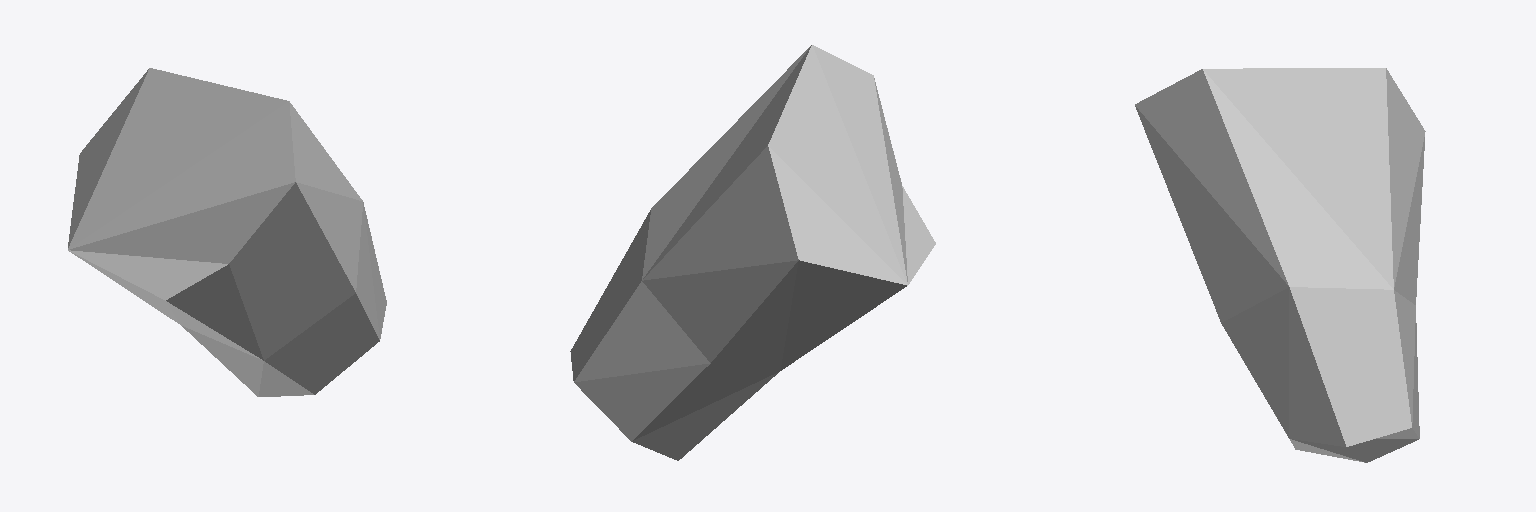
Rendered from CodoIzqu.obj.
3 renders of one model, left to right at view 1: azimuth 30°, elevation 25°; view 2: azimuth 150°, elevation 25°; view 3: azimuth 270°, elevation 25°, orthographic.
Bounding box in the file's own units: 6.5 × 6.98 × 4.99.